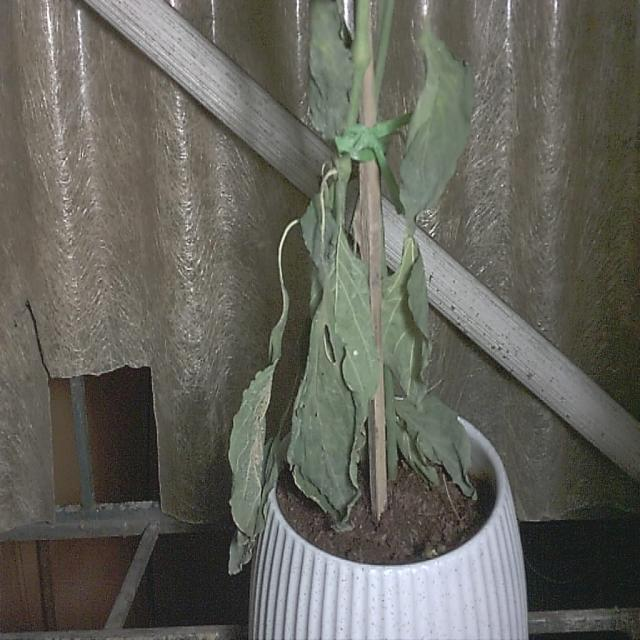Leaf: (287, 260, 365, 536), (224, 312, 286, 578)
